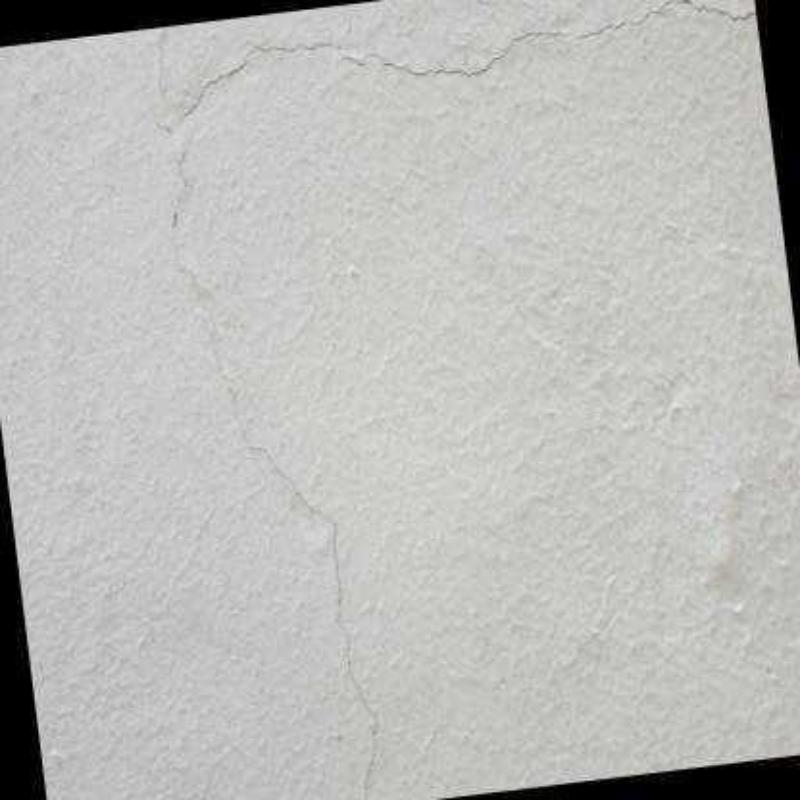pothole: (158, 0, 756, 800)
